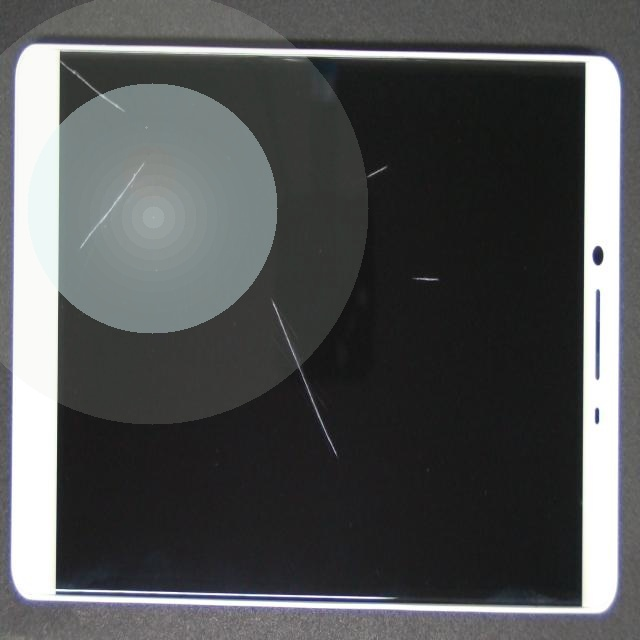scratch: (226, 75, 587, 221)
